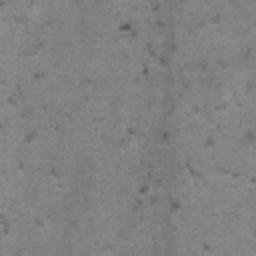Oxide scale of temperature system: (84, 14, 256, 256), (13, 14, 53, 143), (0, 214, 11, 235), (49, 167, 59, 177)
